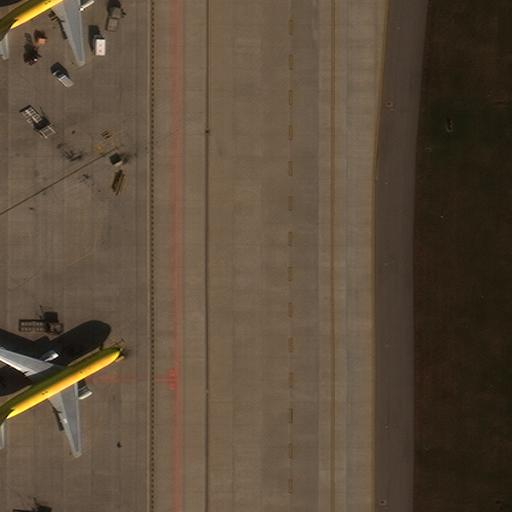Large Civil Transport: (0, 344, 120, 452), (0, 0, 107, 63)
